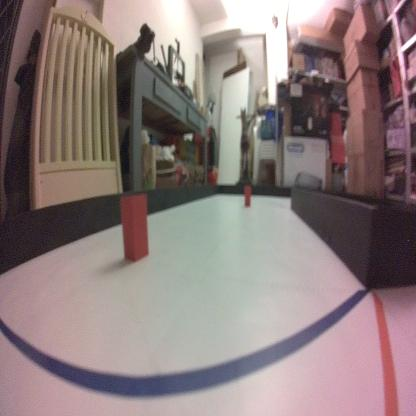red: (119, 193, 150, 264), (244, 184, 252, 207)
